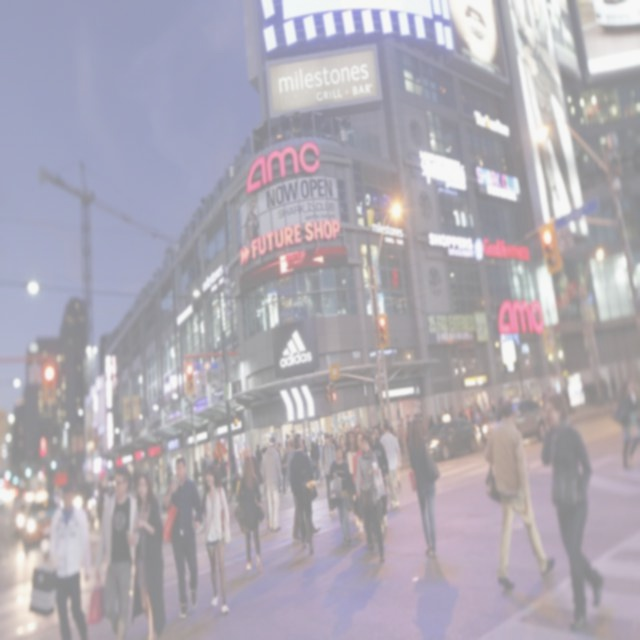pessoa: (509, 0, 583, 238), (538, 386, 608, 635), (482, 397, 556, 593), (90, 463, 140, 639), (125, 468, 168, 639), (161, 454, 204, 621), (48, 482, 92, 640), (194, 462, 230, 614), (406, 416, 442, 564), (353, 432, 388, 564), (232, 452, 266, 576), (426, 396, 506, 448), (310, 420, 384, 469), (445, 0, 500, 63), (288, 433, 316, 556), (291, 432, 322, 542), (213, 440, 263, 502), (144, 452, 213, 493), (329, 444, 357, 544), (612, 376, 640, 473), (366, 425, 389, 535), (260, 434, 284, 532), (378, 418, 402, 510), (92, 464, 114, 540), (319, 431, 337, 517), (240, 191, 261, 251), (352, 430, 364, 534), (628, 378, 640, 464), (260, 446, 271, 532), (389, 424, 402, 492), (352, 430, 364, 490), (228, 453, 242, 504), (394, 394, 404, 458), (284, 437, 295, 490), (218, 456, 230, 504), (536, 382, 560, 406), (276, 442, 284, 496), (219, 457, 229, 500), (254, 443, 264, 485), (280, 444, 288, 496), (164, 464, 174, 498), (269, 294, 279, 328), (199, 452, 207, 489), (313, 435, 321, 471), (310, 440, 318, 474), (152, 466, 162, 493), (406, 413, 412, 455), (203, 452, 211, 481), (339, 433, 347, 461), (192, 460, 200, 486), (300, 438, 308, 456), (214, 457, 220, 469), (414, 412, 419, 419)
